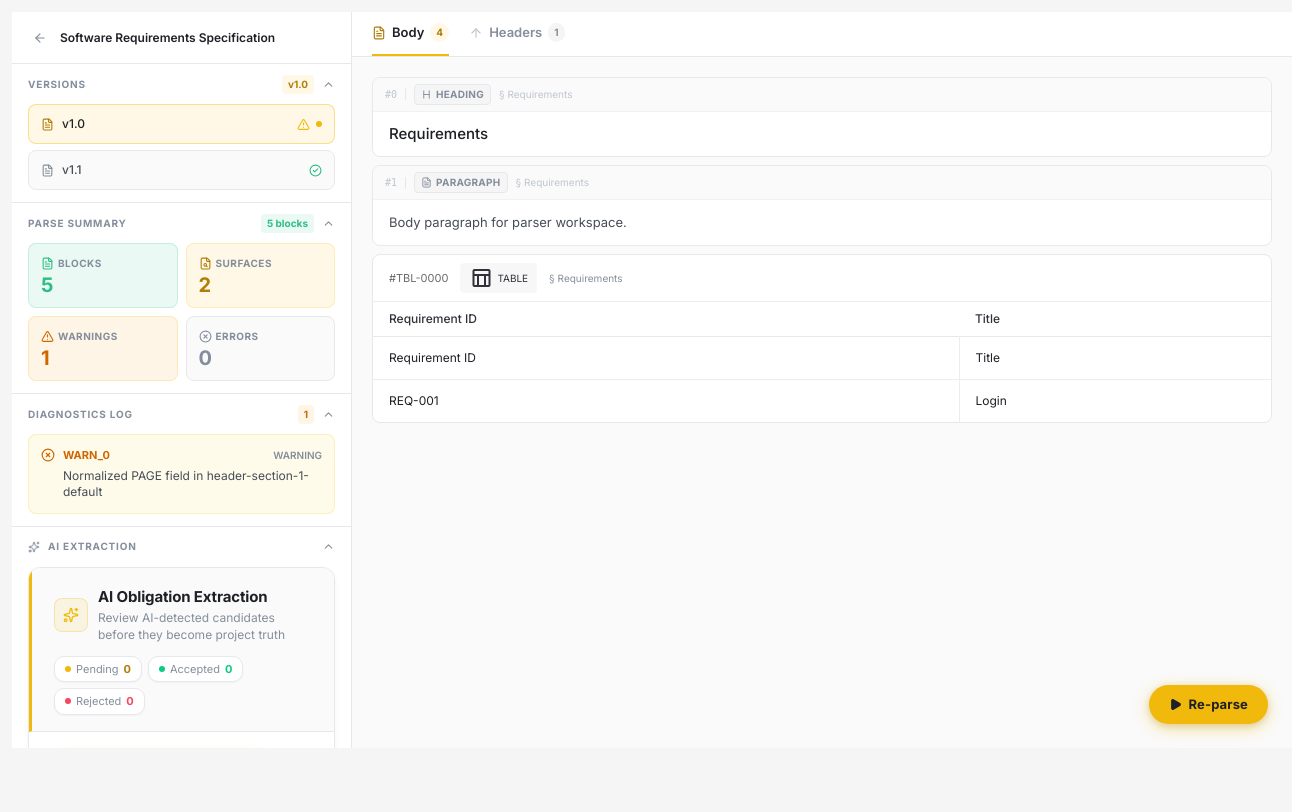
Test case: ParserWorkspacePage › renders parsed preview, warnings, and header surface switching
The width and height of the screenshot is (1292, 812).
Expected: the text "Body paragraph for parser workspace." is shown, top-left (389, 214), bottom-right (627, 230)
Expected: the column heading "Requirement ID" is shown, top-left (373, 302), bottom-right (959, 337)
Click the tab named "headers1" at (517, 34), box top-left (469, 12), bottom-right (564, 56)
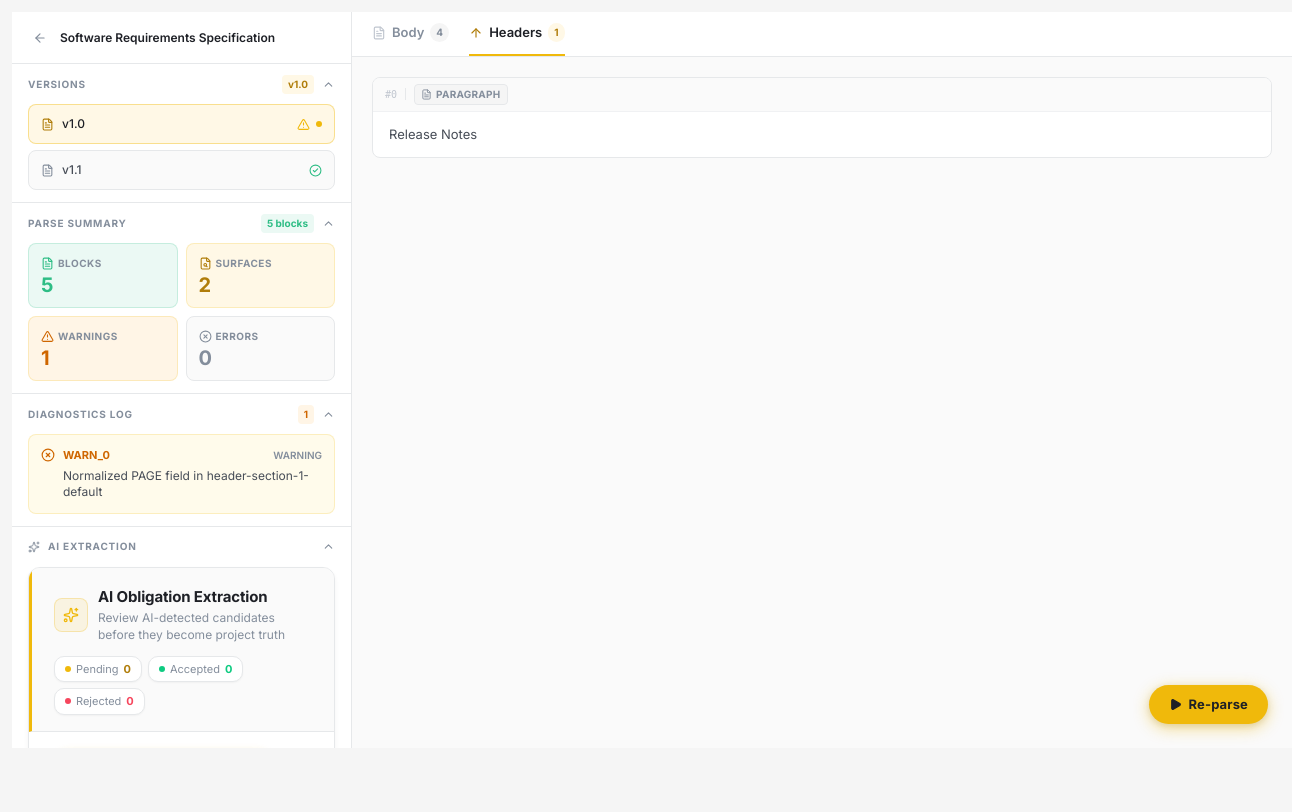
Expected: the text "Release Notes" is shown, top-left (389, 126), bottom-right (477, 142)
